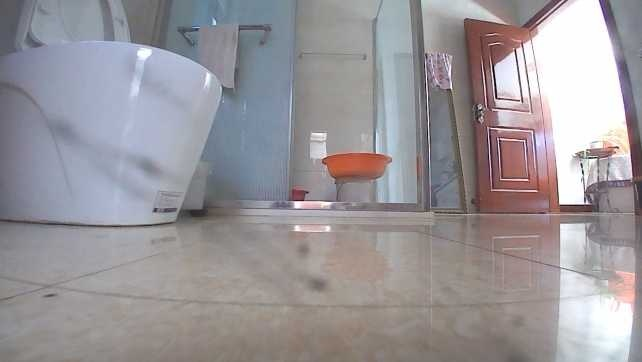door_anno: (463, 18, 561, 214)
toilet: (0, 0, 225, 225)
